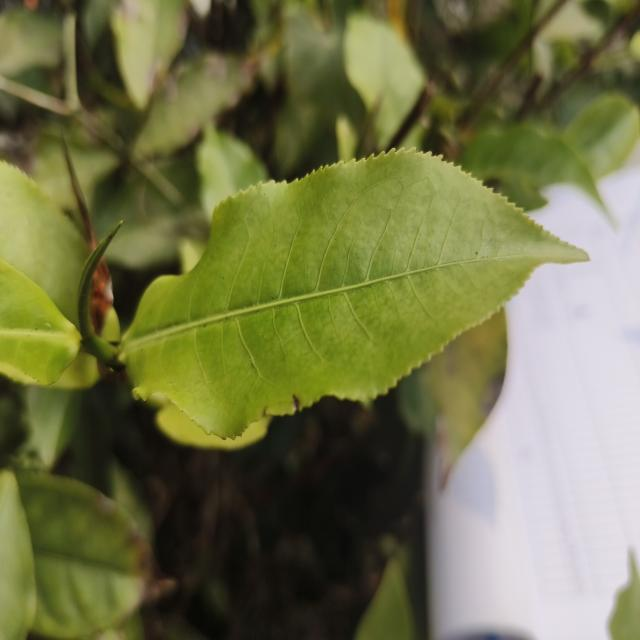Leaf: (120, 149, 588, 437), (16, 471, 155, 640), (0, 161, 90, 328), (461, 124, 612, 221), (134, 52, 256, 157), (427, 309, 507, 469), (0, 260, 81, 385), (111, 0, 187, 110), (564, 93, 640, 179), (196, 125, 268, 212), (0, 470, 36, 640), (355, 558, 415, 640), (26, 386, 81, 469), (52, 350, 101, 389), (103, 309, 120, 341)
